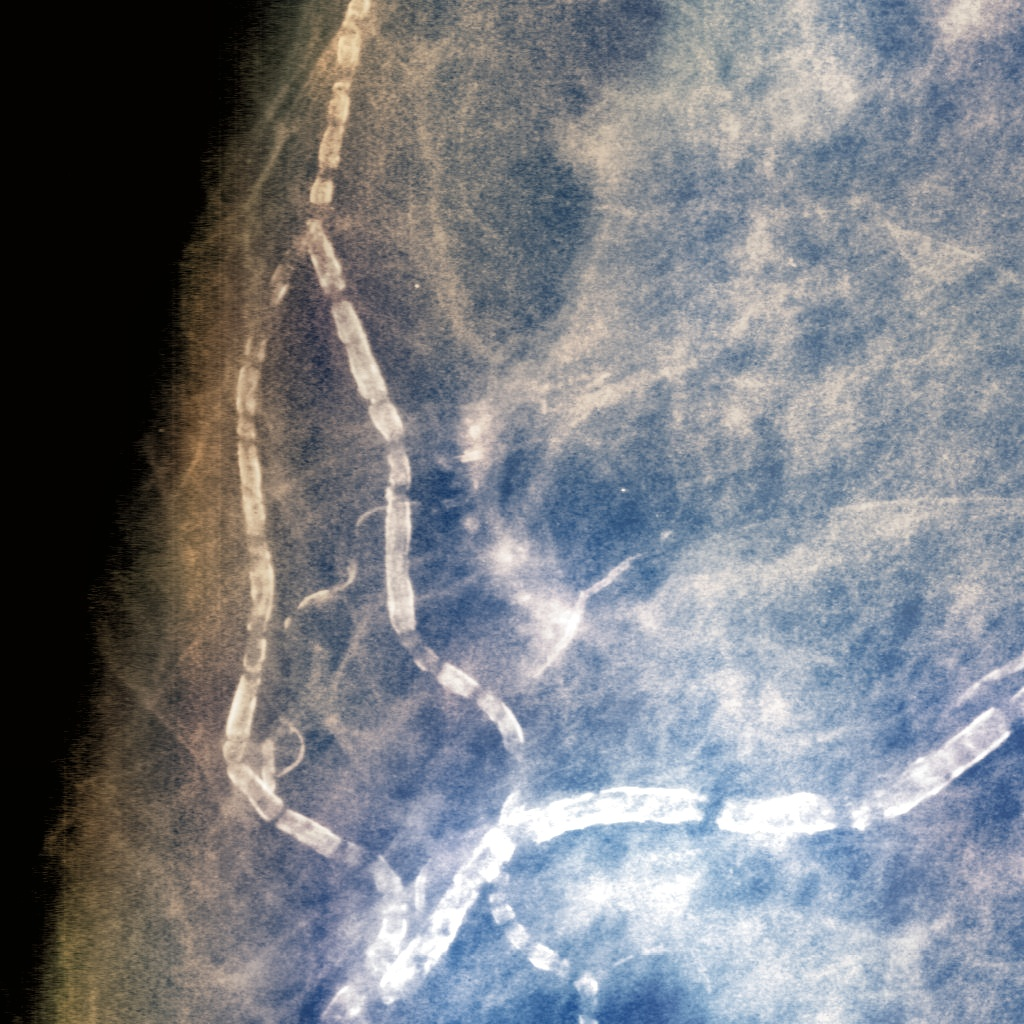tumor: (415, 343, 609, 681)
